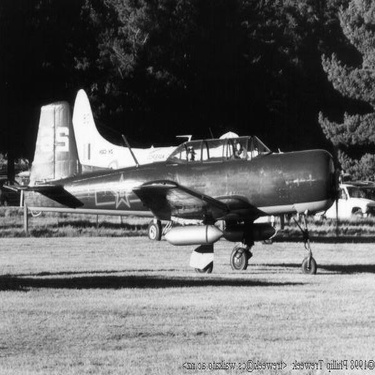airplane: (19, 72, 347, 276), (53, 80, 292, 196)
car: (321, 177, 372, 225)
